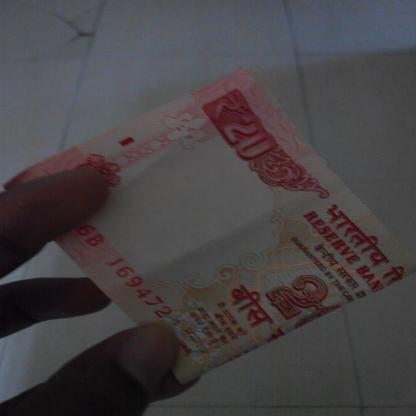Old20Front: (19, 93, 395, 376)
